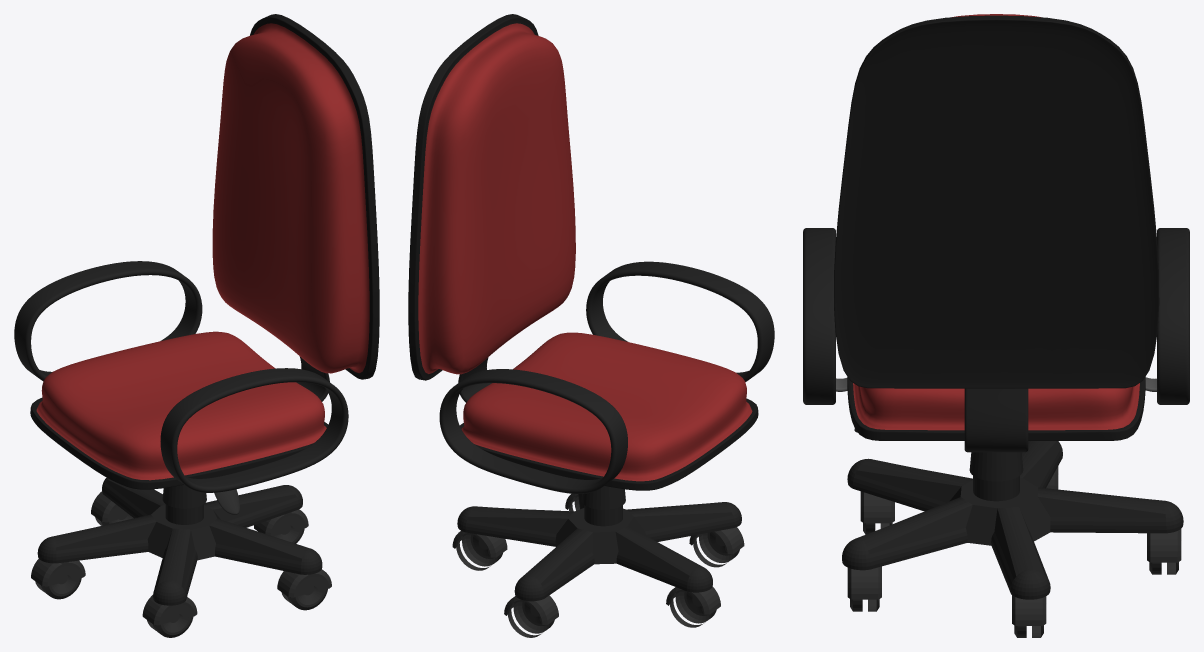
File: swivel_chair_.fbx
3 renders of one model, left to right at view 1: azimuth 30°, elevation 25°; view 2: azimuth 150°, elevation 25°; view 3: azimuth 270°, elevation 25°, orthographic. The views are drawn at different scales.
Visible parts, largest first — view 1: swivel chair, swivel chair DOWN; view 2: swivel chair, swivel chair DOWN; view 3: swivel chair, swivel chair DOWN.
Boxes of the visible parts, x1,y1,x2,y2 form: swivel chair: (14, 14, 379, 514); swivel chair DOWN: (31, 477, 331, 637); swivel chair: (408, 14, 774, 493); swivel chair DOWN: (452, 486, 744, 637); swivel chair: (803, 14, 1189, 452); swivel chair DOWN: (842, 441, 1183, 637).
Bounding box in the file's own units: 36.38 × 68.51 × 38.32.
